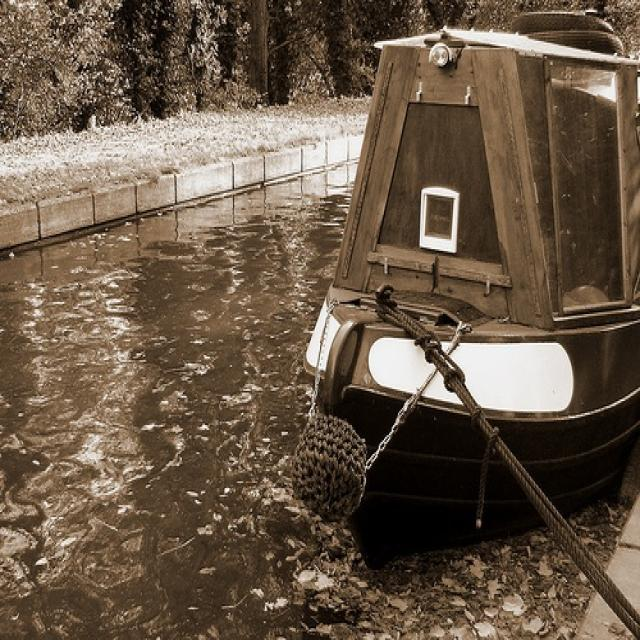boat: (289, 7, 639, 543)
